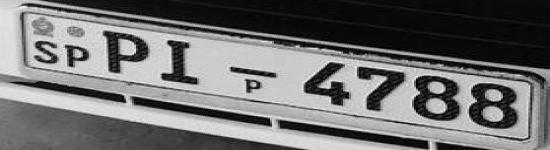-: (228, 63, 282, 80)
4: (301, 60, 357, 105)
7: (354, 64, 409, 116)
8: (466, 81, 526, 132), (410, 73, 466, 124)
I: (155, 37, 204, 86)
P: (95, 30, 151, 75), (62, 40, 92, 72)
S: (30, 39, 62, 66)
